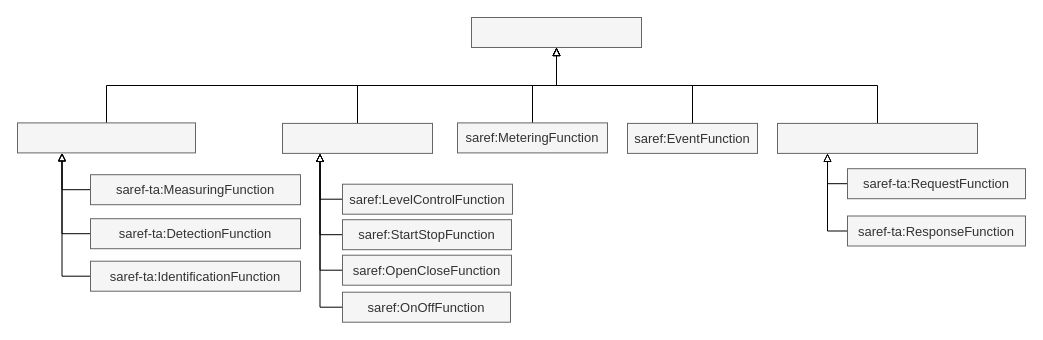
This 1043x340 diagram has some shape labels left out. Here are the shapes that lost their labels. From the top down, the centre of each, then its label:
pixel 556 32: saref:Function
pixel 106 137: saref:SensingFunction
pixel 357 137: saref:ActuatingFunction
pixel 877 137: saref-ta:NetworkingFunction
